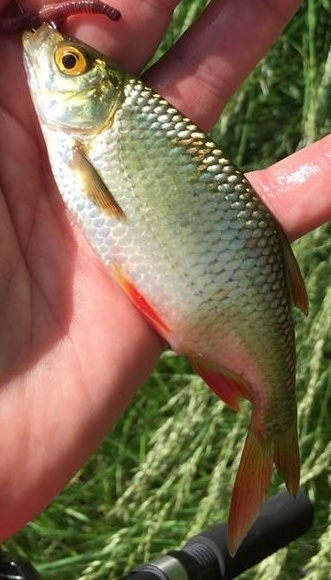Scardinius erythrophthalmus: (20, 20, 311, 560)
